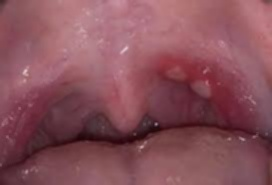Ulcer: (159, 66, 215, 99)
